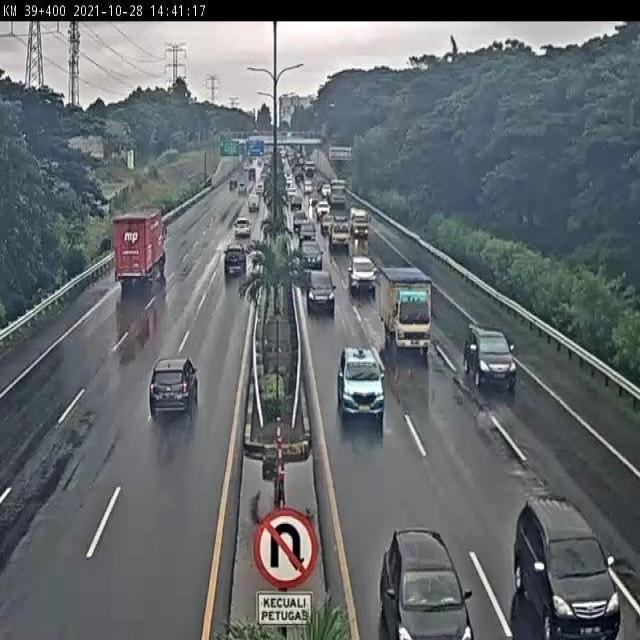car: (304, 265, 334, 311), (348, 254, 377, 294), (223, 241, 249, 272)
mid truck: (512, 497, 622, 639), (337, 345, 387, 423), (464, 323, 519, 393), (114, 213, 165, 288), (148, 356, 199, 421)
truck-m-: (380, 265, 433, 355)
